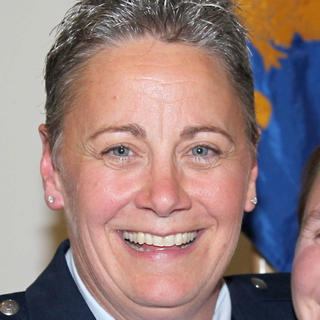eye: (96, 140, 144, 165), (179, 140, 226, 164)
